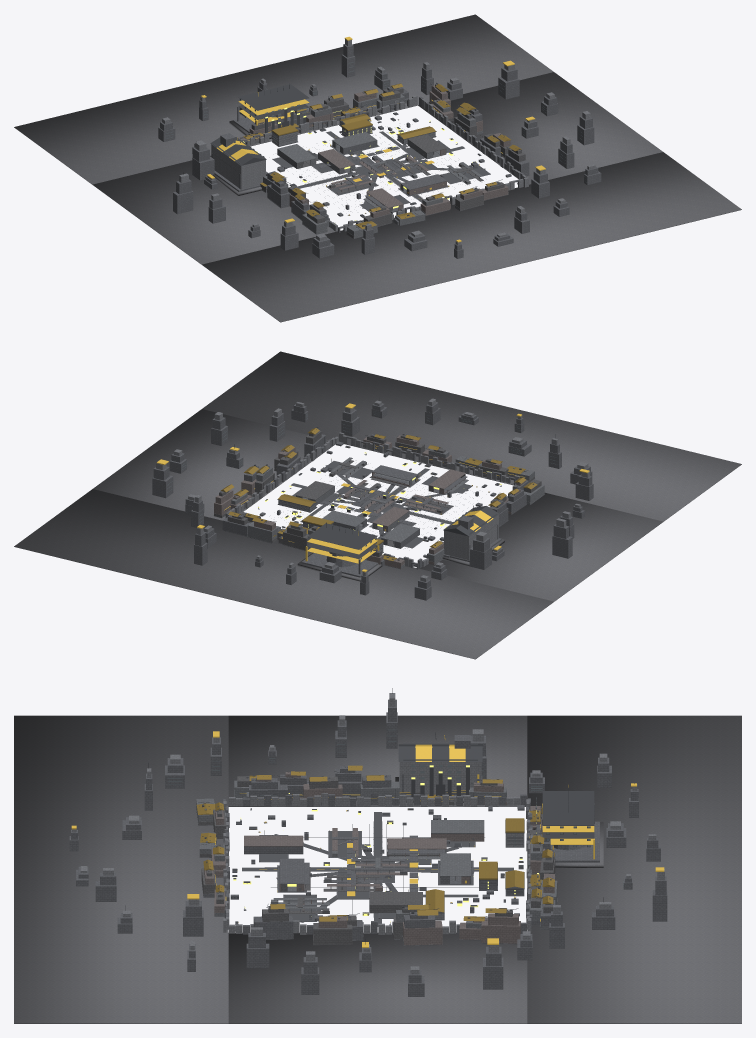
3 renders of one model, top to bottom at view 1: azimuth 30°, elevation 25°; view 2: azimuth 150°, elevation 25°; view 3: azimuth 270°, elevation 25°, orthographic. The views are drawn at different scales.
Parts seen in each view (by area): view 1: HB_z08_LOD0_terrain, HB_z08_LOD0_wall_alt, HB_z08_LOD0_wall, HB_z08_LOD0_wall_warm, HB_z08_LOD0_wall_cool, HB_z08_LOD0_wall_weathered, HB_z08_LOD0_road, HB_z08_LOD0_roof, HB_z08_LOD0_LANDMARK_0_trim, HB_z08_LOD0_trim, HB_z08_LOD0_LANDMARK_1_wall, HB_z08_LOD0_LANDMARK_1_trim (+2 smaller); view 2: HB_z08_LOD0_terrain, HB_z08_LOD0_wall_alt, HB_z08_LOD0_wall, HB_z08_LOD0_wall_weathered, HB_z08_LOD0_wall_cool, HB_z08_LOD0_wall_warm, HB_z08_LOD0_road, HB_z08_LOD0_roof, HB_z08_LOD0_LANDMARK_0_trim, HB_z08_LOD0_trim, HB_z08_LOD0_LANDMARK_1_wall, HB_z08_LOD0_LANDMARK_0_wall_alt (+2 smaller); view 3: HB_z08_LOD0_terrain, HB_z08_LOD0_wall_alt, HB_z08_LOD0_wall_warm, HB_z08_LOD0_wall, HB_z08_LOD0_wall_weathered, HB_z08_LOD0_wall_cool, HB_z08_LOD0_road, HB_z08_LOD0_roof, HB_z08_LOD0_trim, HB_z08_LOD0_LANDMARK_0_trim, HB_z08_LOD0_LANDMARK_1_wall, HB_z08_LOD0_LANDMARK_1_trim (+5 smaller).
Boxes of the visible parts, x1,y1,x2,y2 form: HB_z08_LOD0_terrain: (14,14,741,322); HB_z08_LOD0_wall_alt: (158,44,601,258); HB_z08_LOD0_wall: (162,39,595,245); HB_z08_LOD0_wall_warm: (238,85,510,217); HB_z08_LOD0_wall_cool: (245,93,508,238); HB_z08_LOD0_wall_weathered: (251,83,525,238); HB_z08_LOD0_road: (274,121,490,215); HB_z08_LOD0_roof: (243,83,521,229); HB_z08_LOD0_LANDMARK_0_trim: (238,83,309,133); HB_z08_LOD0_trim: (183,83,521,229); HB_z08_LOD0_LANDMARK_1_wall: (211,144,265,189); HB_z08_LOD0_LANDMARK_1_trim: (210,137,266,170); HB_z08_LOD0_terrain: (14,351,741,659); HB_z08_LOD0_wall_alt: (152,402,593,600); HB_z08_LOD0_wall: (156,398,589,581); HB_z08_LOD0_wall_weathered: (214,431,541,556); HB_z08_LOD0_wall_cool: (222,444,544,568); HB_z08_LOD0_wall_warm: (214,435,525,568); HB_z08_LOD0_road: (258,454,501,547); HB_z08_LOD0_roof: (221,428,537,560); HB_z08_LOD0_LANDMARK_0_trim: (307,522,377,562); HB_z08_LOD0_trim: (223,397,562,565); HB_z08_LOD0_LANDMARK_1_wall: (444,515,498,560); HB_z08_LOD0_LANDMARK_0_wall_alt: (301,552,378,577); HB_z08_LOD0_terrain: (14,715,741,1023); HB_z08_LOD0_wall_alt: (69,699,667,996); HB_z08_LOD0_wall_warm: (204,772,554,945); HB_z08_LOD0_wall: (72,693,664,974); HB_z08_LOD0_wall_weathered: (198,776,555,944); HB_z08_LOD0_wall_cool: (196,780,557,944); HB_z08_LOD0_road: (240,810,515,926); HB_z08_LOD0_roof: (196,765,554,921); HB_z08_LOD0_trim: (125,688,634,944); HB_z08_LOD0_LANDMARK_0_trim: (536,788,594,847); HB_z08_LOD0_LANDMARK_1_wall: (399,762,481,794); HB_z08_LOD0_LANDMARK_1_trim: (398,732,482,798).
Size of the model in its own units: 712 by 65.55 by 712.
14 materials, 12 textured.
